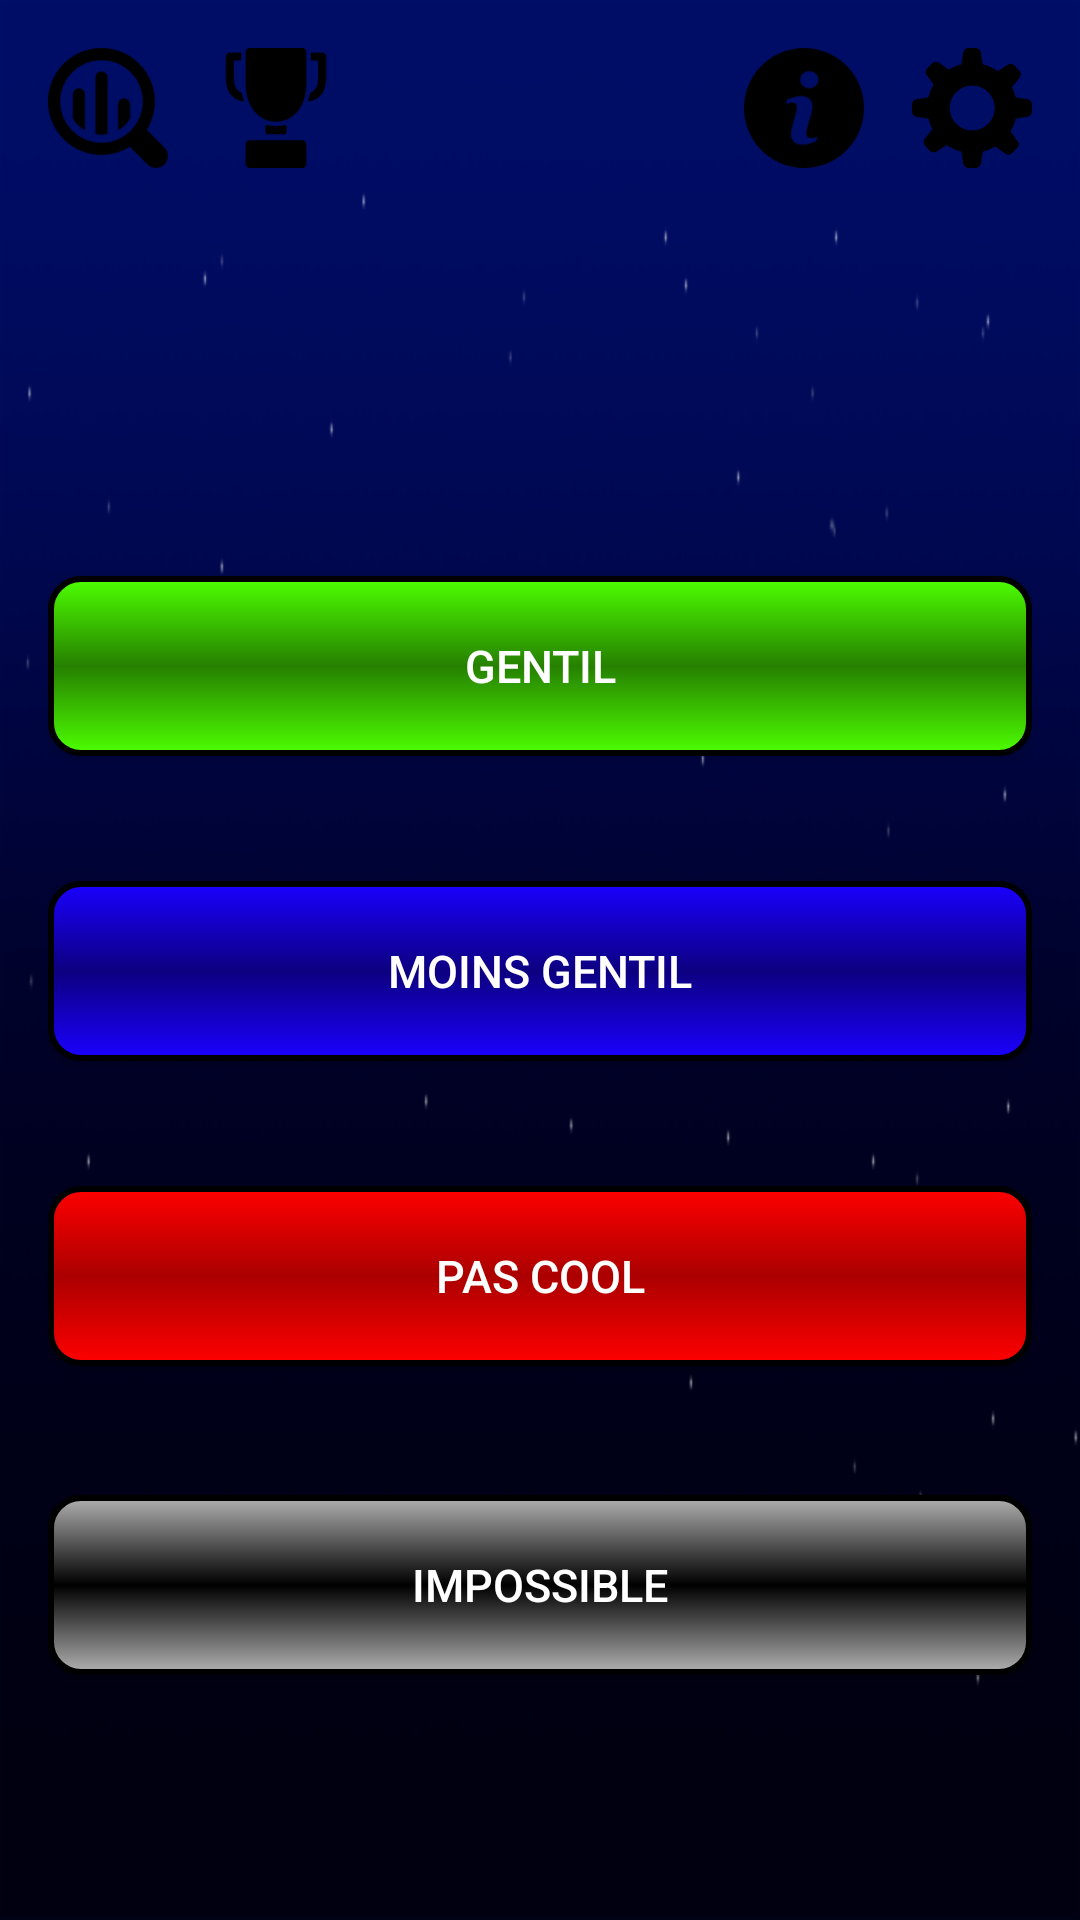

Where icons sit on this 1080px×1920px app screen, as (x1, y1, x2, y2):
rules: (744, 48, 864, 168)
search stats: (48, 48, 168, 168)
settings: (912, 48, 1032, 168)
trophy: (225, 48, 327, 168)
